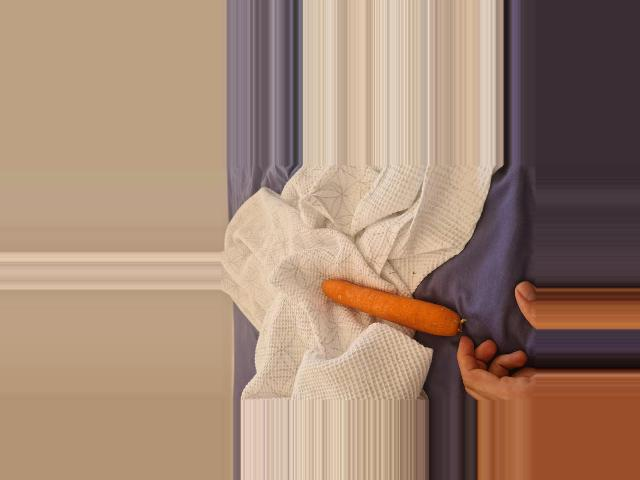carrot: (321, 279, 463, 334)
